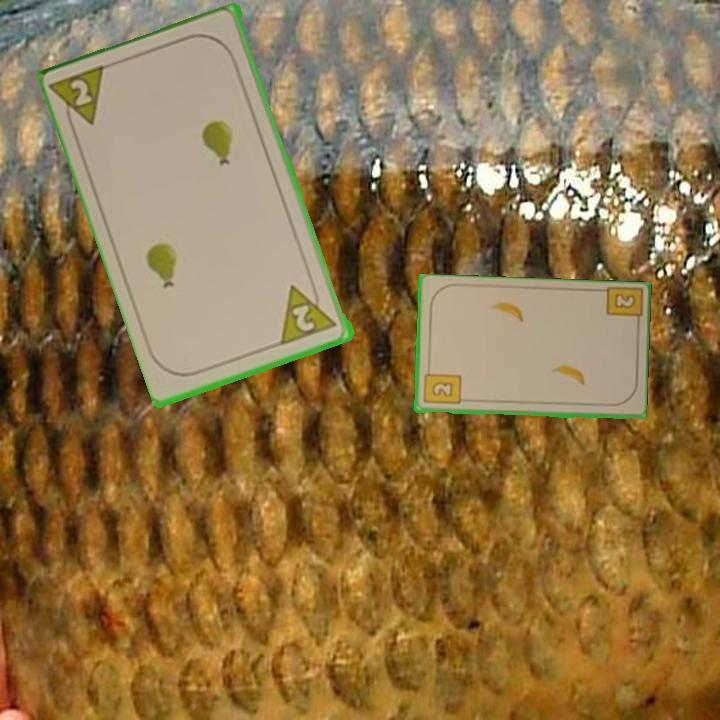2b: (601, 285, 643, 331), (420, 364, 463, 407)
2p: (49, 61, 112, 136), (278, 276, 340, 348)
